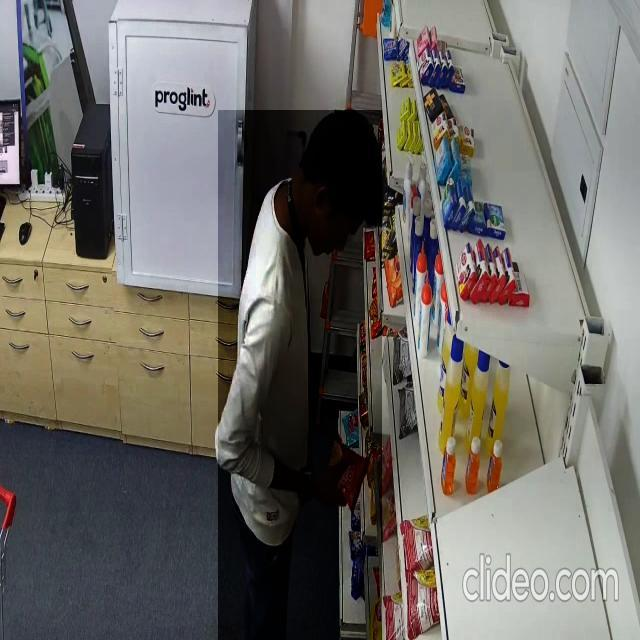normal: (218, 110, 382, 640)
